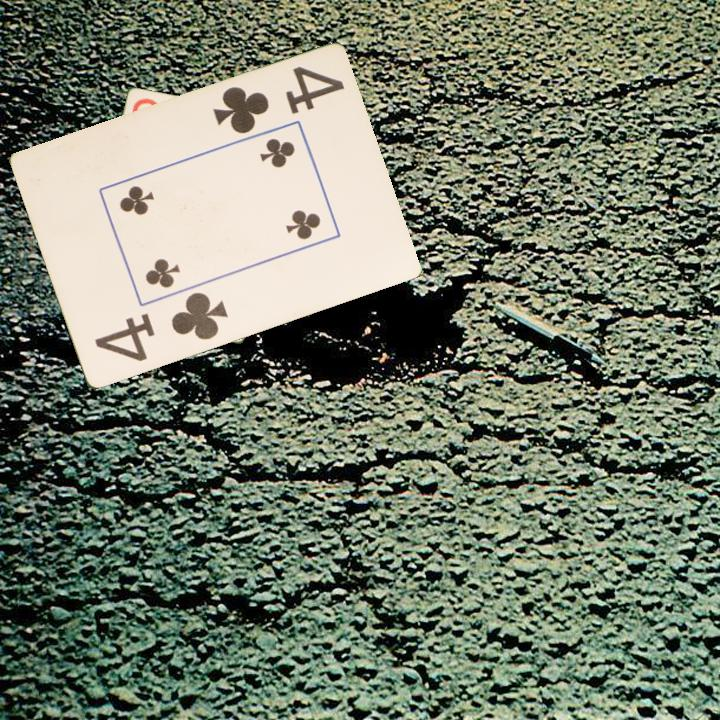4c: (91, 289, 231, 365), (208, 63, 347, 138)
